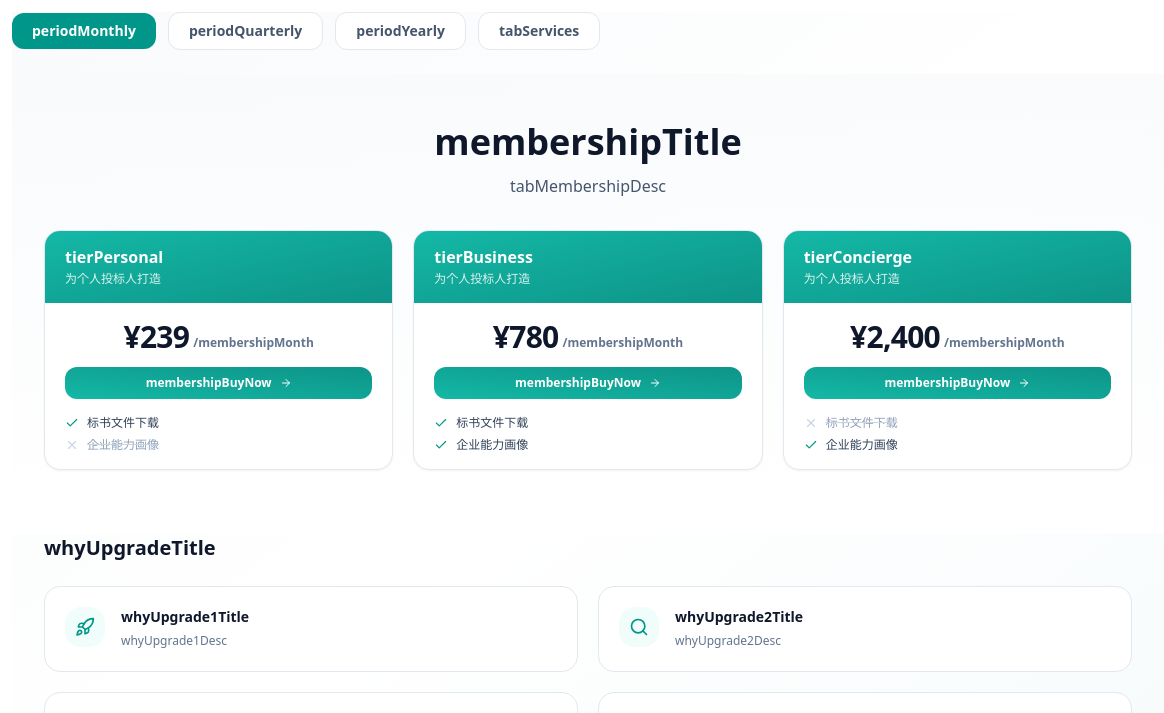
Test: MembershipPage 定价区（周期 Tab × 三档卡） › 切到年付 Tab：卡换成年付行，价格变 ¥1,299 / ¥4,800 / ¥16,800，只有企业年付带推荐角标
What coordinates should you click on to do the following:
click the tab with test id "period-tab"
I would click on:
 (401, 31)
Its box is [335,12,466,50].
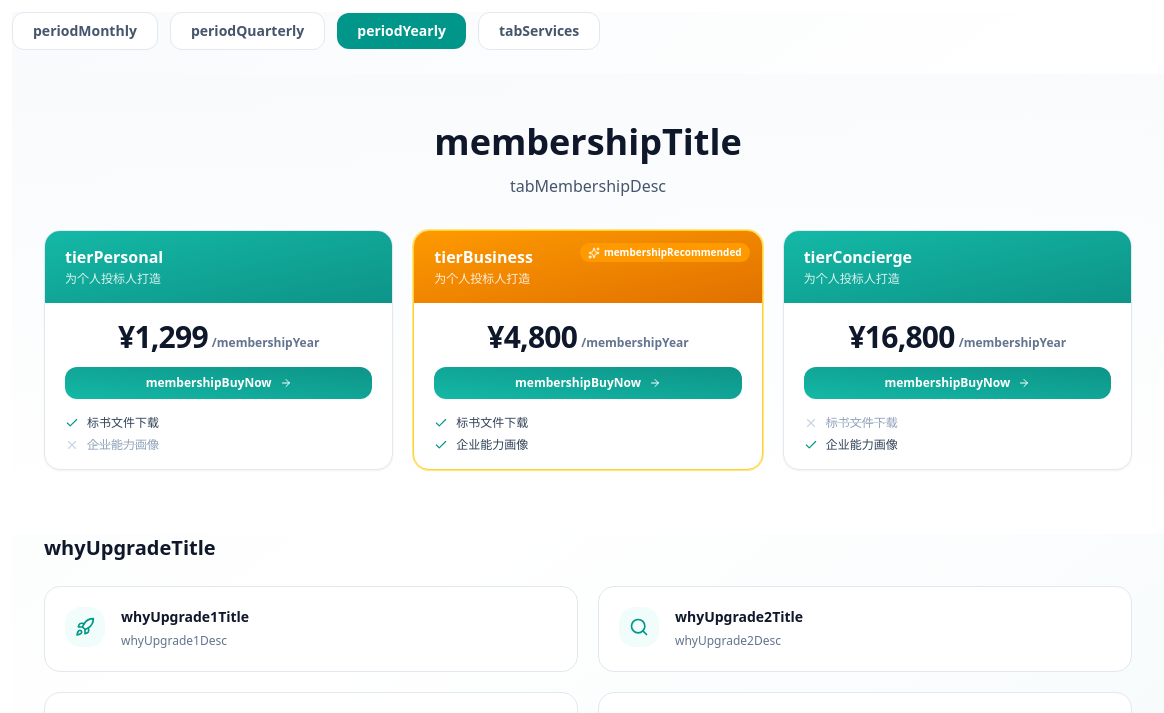
expect the text "¥1,299" is shown: met, box [118,319,208,355]
expect the text "¥4,800" is shown: met, box [487,319,577,355]
expect the text "¥16,800" is shown: met, box [848,319,955,355]
